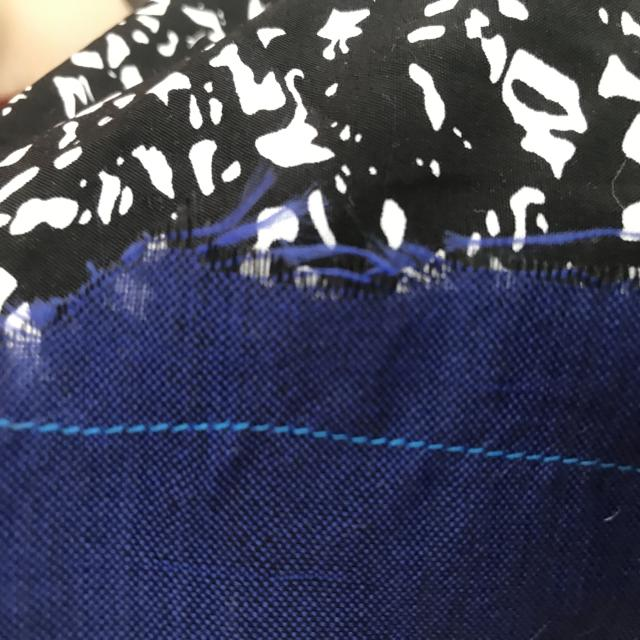good: (510, 440, 618, 480), (374, 428, 468, 458)
